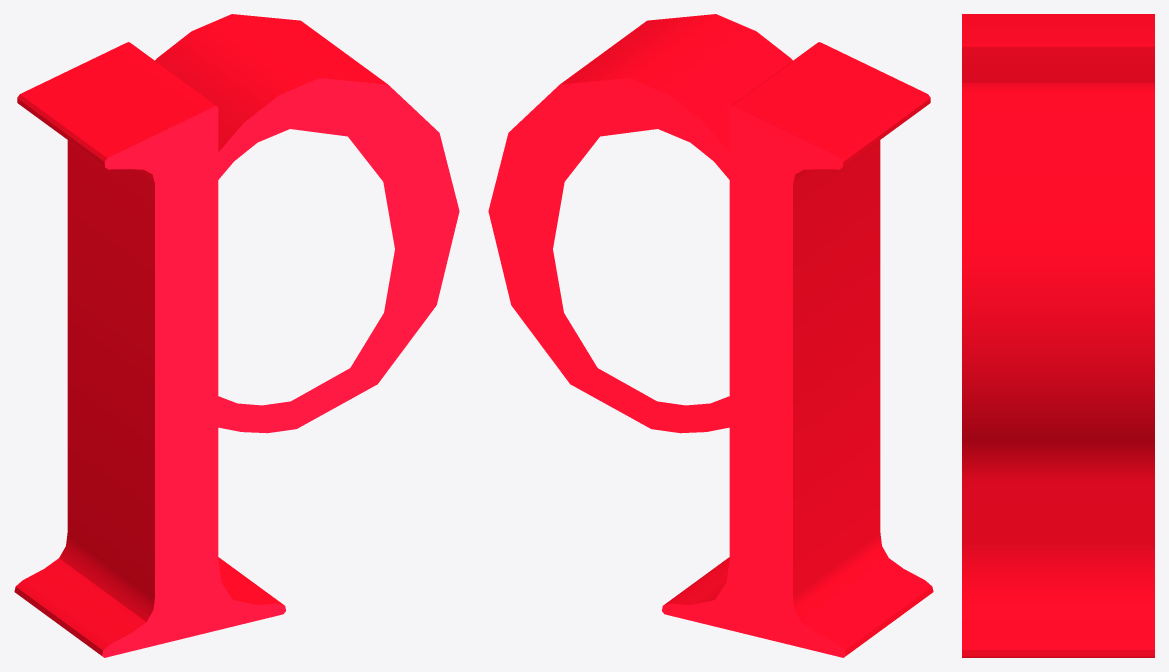
File: P_Soul_Red.glb
3 views of the same model, side by side, from view 1: azimuth 30°, elevation 25°; view 2: azimuth 150°, elevation 25°; view 3: azimuth 270°, elevation 25° (orthographic). The views are drawn at different scales.
Parts seen in each view (by area): view 1: p_Soul_Red; view 2: p_Soul_Red; view 3: p_Soul_Red.
Part boxes in pixels (x1=…): p_Soul_Red: x1=14, y1=14, x2=459, y2=657; p_Soul_Red: x1=488, y1=14, x2=933, y2=657; p_Soul_Red: x1=962, y1=14, x2=1154, y2=657.
Size of what is drawn, in the model's own units: 0.1062 by 0.1496 by 0.045.
2 materials, 2 textured.
